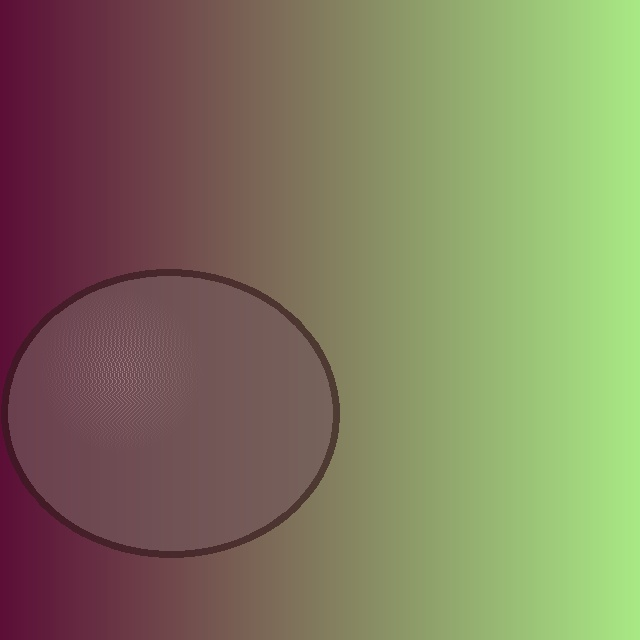lens: (4, 272, 336, 554)
